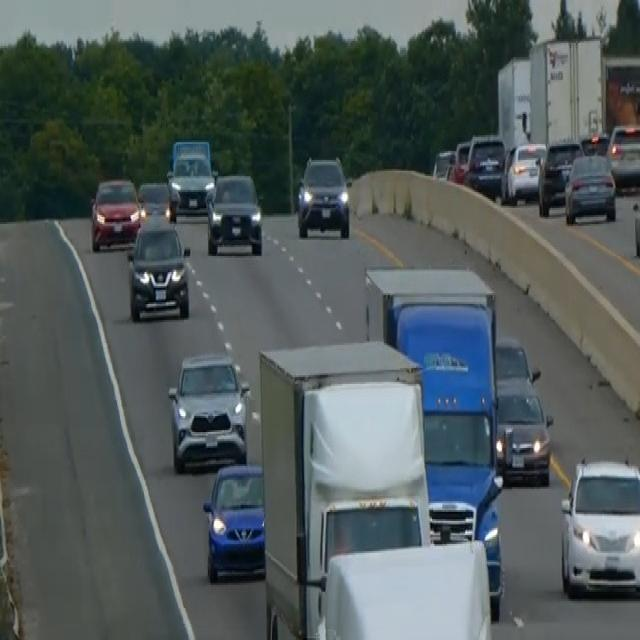car: (320, 537, 494, 638), (167, 348, 250, 473), (202, 461, 266, 583), (126, 213, 191, 322), (494, 375, 553, 485), (205, 171, 263, 256), (563, 149, 617, 224), (89, 174, 141, 251), (166, 139, 215, 217), (536, 137, 584, 215), (500, 138, 546, 204), (463, 132, 505, 199), (493, 334, 539, 390), (606, 119, 639, 190), (137, 178, 174, 220), (447, 137, 471, 183), (580, 130, 610, 158), (432, 146, 456, 180)
jeep: (295, 153, 351, 240)
lorry: (256, 336, 492, 638), (363, 263, 505, 615)
minivan: (558, 451, 639, 601)
